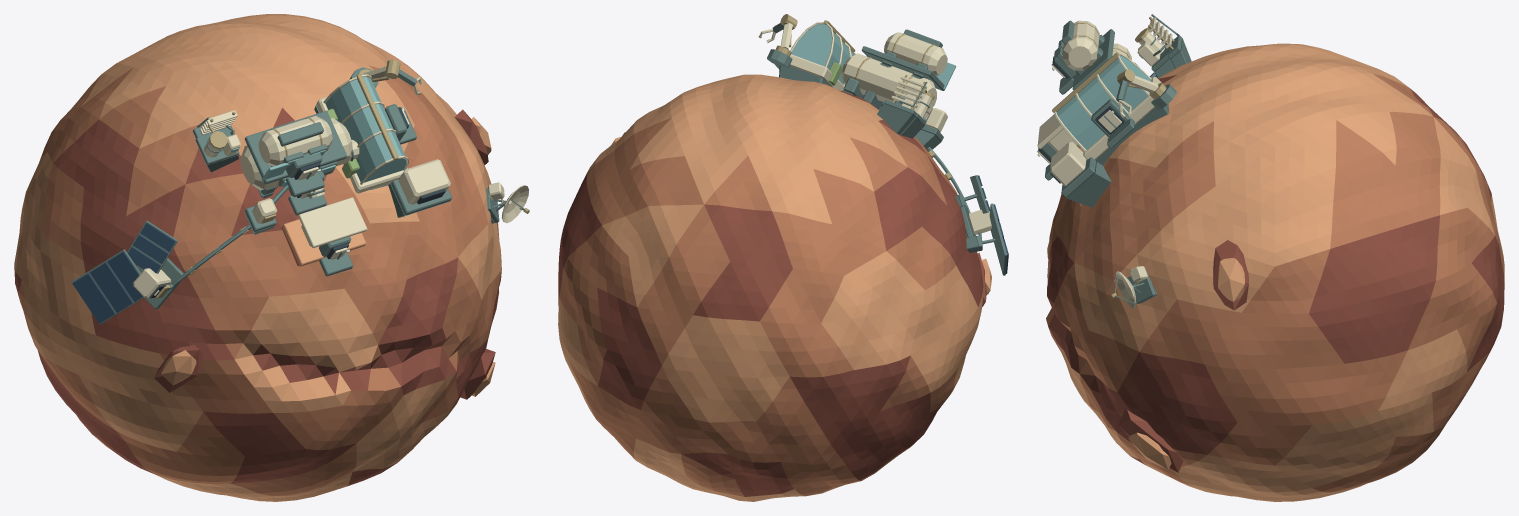
File: Mars.glb
The picture shows the model from 3 angles, left to right: view 1: azimuth 30°, elevation 25°; view 2: azimuth 150°, elevation 25°; view 3: azimuth 270°, elevation 25°; orthographic projection. The views are drawn at different scales.
Visible parts, largest first — view 1: S10_Mars • modeled surfaces; view 2: S10_Mars • modeled surfaces; view 3: S10_Mars • modeled surfaces.
Boxes of the visible parts, left/top/right/bottom form: S10_Mars • modeled surfaces: left=14, top=14, right=529, bottom=501; S10_Mars • modeled surfaces: left=558, top=14, right=1008, bottom=501; S10_Mars • modeled surfaces: left=1037, top=14, right=1504, bottom=501.
Size of the model in its own units: 1.73 by 1.75 by 1.68.
